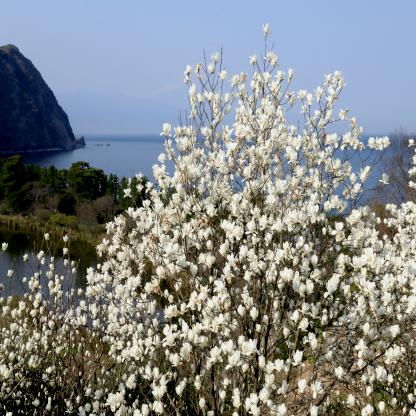Mokuren: (85, 24, 416, 416), (0, 231, 85, 416)
